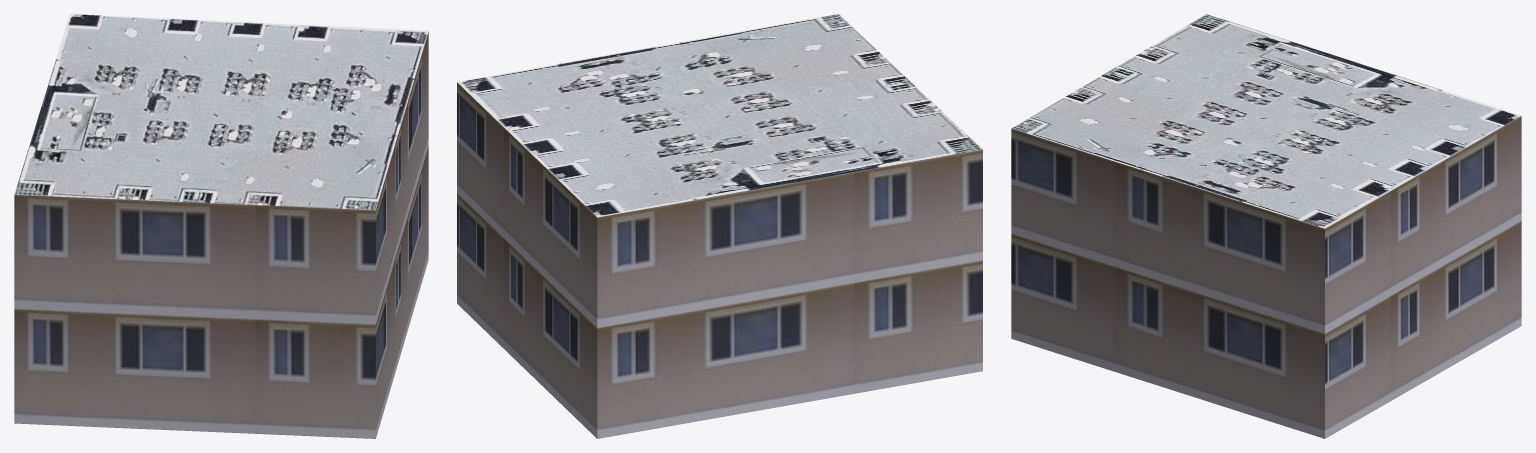
Rendered from ResTex__5114.fbx.
3 views of the same model, side by side, from view 1: azimuth 30°, elevation 25°; view 2: azimuth 150°, elevation 25°; view 3: azimuth 270°, elevation 25° (orthographic). The views are drawn at different scales.
Visible parts, largest first — view 1: CityEngineMaterial_21_m, CityEngineMaterial_2_m; view 2: CityEngineMaterial_21_m, CityEngineMaterial_2_m; view 3: CityEngineMaterial_21_m, CityEngineMaterial_2_m.
Part boxes in pixels (x1,y1,x2,y2): CityEngineMaterial_21_m: (14, 32, 428, 438); CityEngineMaterial_2_m: (14, 14, 428, 210); CityEngineMaterial_21_m: (457, 82, 982, 438); CityEngineMaterial_2_m: (457, 14, 982, 217); CityEngineMaterial_21_m: (1011, 116, 1521, 438); CityEngineMaterial_2_m: (1011, 14, 1521, 228).
Bounding box in the file's own units: 13.14 × 6 × 13.2.
Materials: 2 (2 with a texture image).
